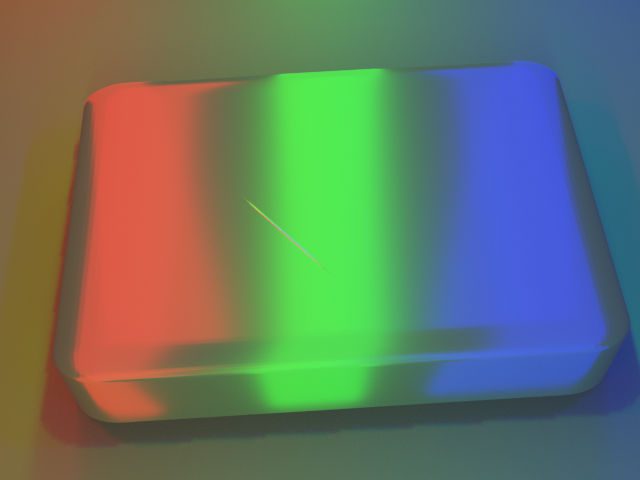scratch: (45, 111, 518, 388)
